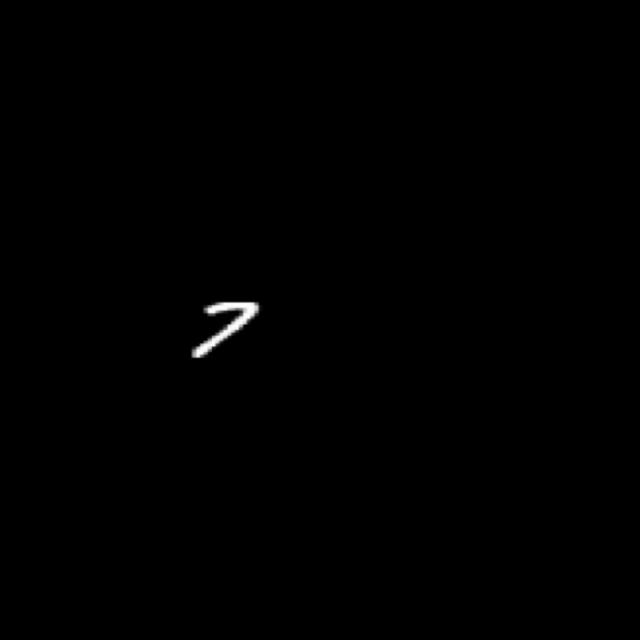seven -7-: (181, 292, 269, 362)
